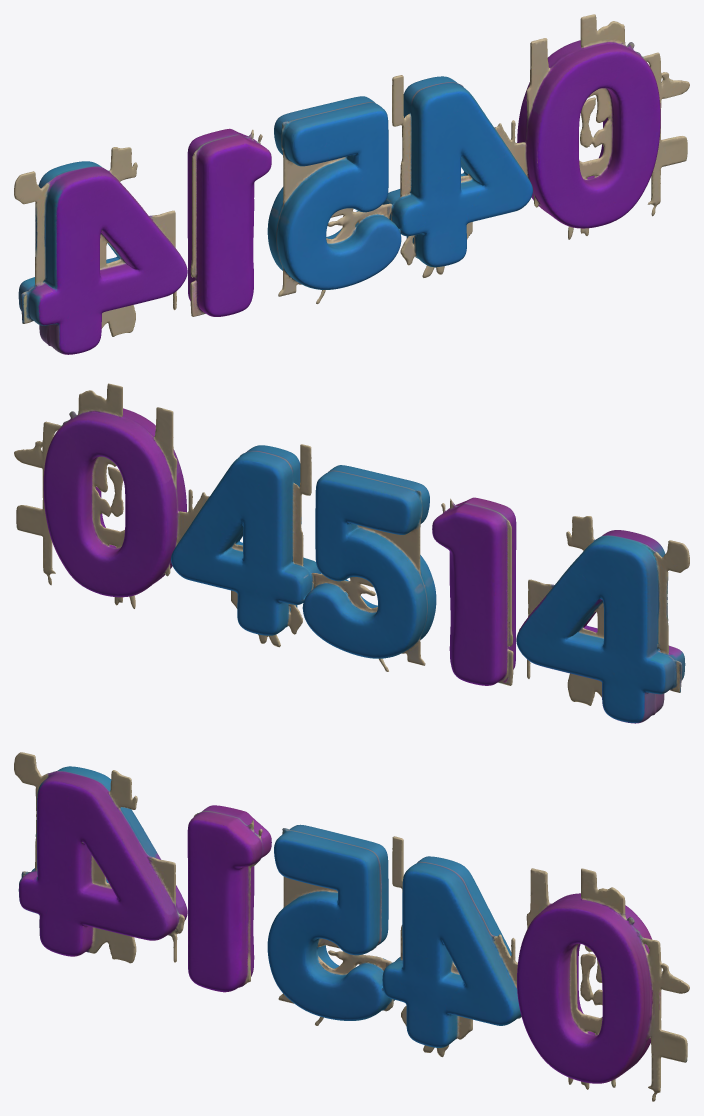
Rendered from conj_mm6qylwy5enh.glb.
3 views of the same model, one above another, from view 1: azimuth 30°, elevation 25°; view 2: azimuth 150°, elevation 25°; view 3: azimuth 330°, elevation 25° (orthographic).
Parts seen in each view (by area): view 1: tripo_node_3dfb0687-567f-4721-8883-642d9f081aae; view 2: tripo_node_3dfb0687-567f-4721-8883-642d9f081aae; view 3: tripo_node_3dfb0687-567f-4721-8883-642d9f081aae.
Boxes of the visible parts, x1=… form: tripo_node_3dfb0687-567f-4721-8883-642d9f081aae: x1=14, y1=14, x2=689, y2=354; tripo_node_3dfb0687-567f-4721-8883-642d9f081aae: x1=14, y1=383, x2=689, y2=723; tripo_node_3dfb0687-567f-4721-8883-642d9f081aae: x1=14, y1=752, x2=689, y2=1101.
Size of the model in its own units: 1 by 0.3157 by 0.0568.
Materials: 1 (1 with a texture image).
